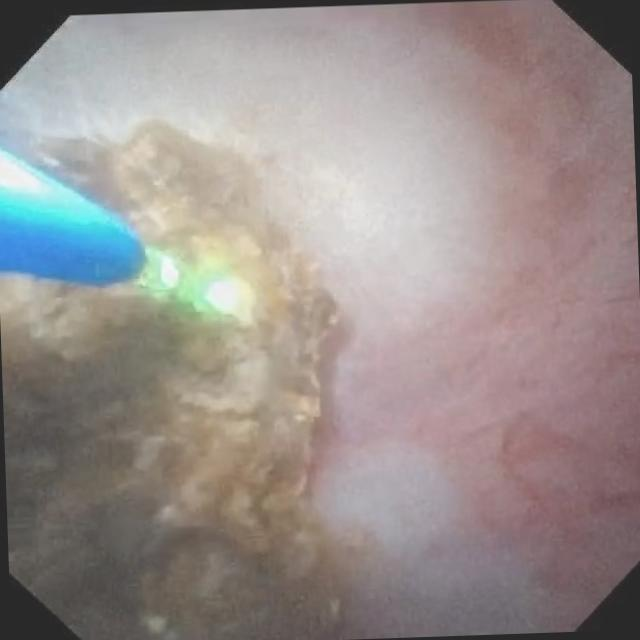laser-fibre: (138, 249, 179, 292)
laser_dot: (206, 277, 238, 313)
stone-new: (0, 121, 340, 640)
